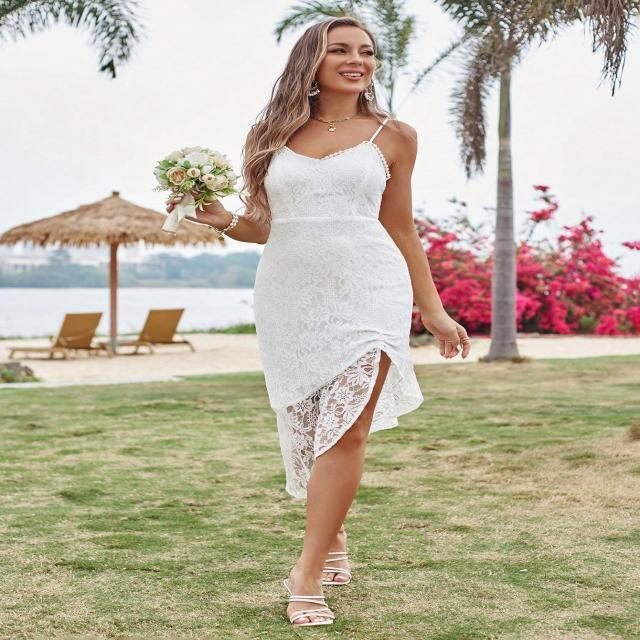Earring: (361, 80, 377, 105), (308, 78, 320, 98)
